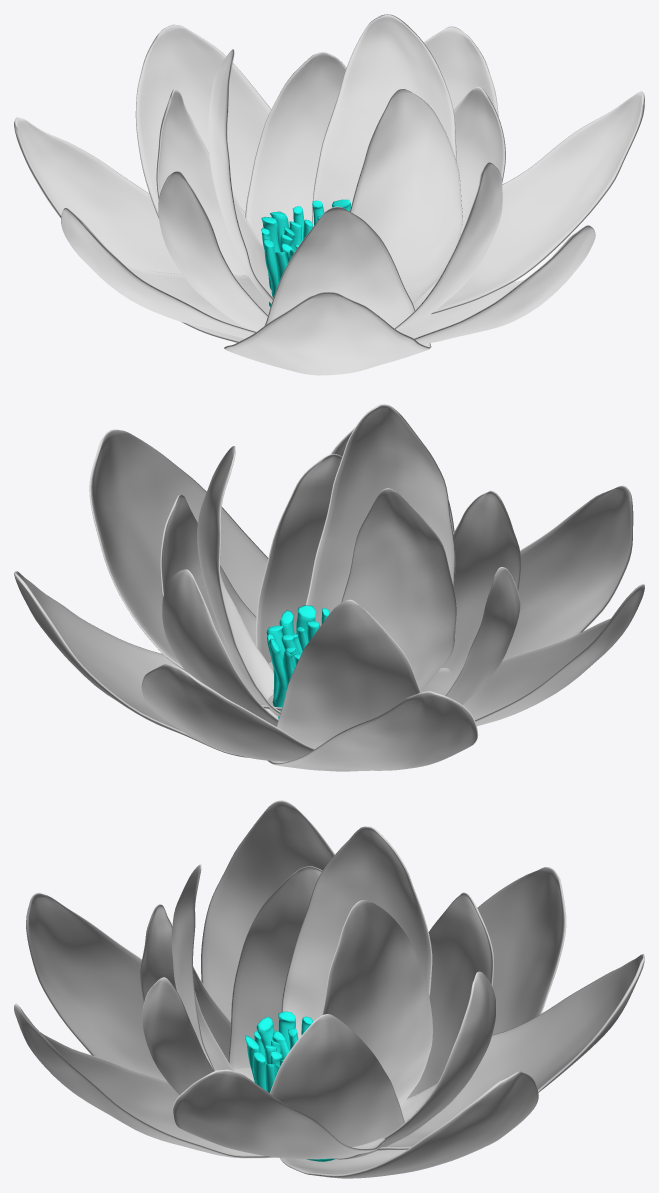
File: FLOW5.glb
3 views of the same model, one above another, from view 1: azimuth 30°, elevation 25°; view 2: azimuth 150°, elevation 25°; view 3: azimuth 270°, elevation 25° (orthographic).
Parts seen in each view (by area): view 1: lotu_petal_13, lotu_petal_02, lotu_petal_14, lotu_petal_00, lotu_petal_06, lotu_petal_11, lotu_petal_04, lotu_petal_08, lotu_petal_09, lotu_petal_05, lotu_petal_03, lotu_petal_10 (+5 smaller); view 2: lotu_petal_02, lotu_petal_15, lotu_petal_13, lotu_petal_04, lotu_petal_10, lotu_petal_06, lotu_petal_05, lotu_petal_00, lotu_petal_07, lotu_petal_01, lotu_petal_08, lotu_petal_11 (+4 smaller); view 3: lotu_petal_04, lotu_petal_14, lotu_petal_15, lotu_petal_05, lotu_petal_12, lotu_petal_00, lotu_petal_06, lotu_petal_02, lotu_petal_03, lotu_petal_09, lotu_petal_01, lotu_petal_10 (+5 smaller).
Part boxes in pixels (x1,y1,x2,y2): lotu_petal_13: (350, 89, 462, 304); lotu_petal_02: (413, 91, 644, 314); lotu_petal_14: (312, 14, 456, 227); lotu_petal_00: (135, 24, 271, 218); lotu_petal_06: (14, 117, 244, 342); lotu_petal_11: (245, 52, 346, 246); lotu_petal_04: (224, 292, 431, 375); lotu_petal_08: (264, 206, 414, 328); lotu_petal_09: (158, 171, 267, 331); lotu_petal_05: (61, 208, 270, 338); lotu_petal_03: (397, 225, 595, 344); lotu_petal_10: (156, 89, 247, 275); lotu_petal_02: (89, 429, 281, 710); lotu_petal_15: (341, 488, 456, 690); lotu_petal_13: (306, 404, 455, 626); lotu_petal_04: (477, 485, 633, 726); lotu_petal_10: (276, 599, 420, 748); lotu_petal_06: (267, 691, 478, 771); lotu_petal_05: (420, 583, 644, 726); lotu_petal_00: (141, 664, 315, 761); lotu_petal_07: (255, 453, 342, 663); lotu_petal_01: (14, 571, 248, 757); lotu_petal_08: (441, 490, 520, 679); lotu_petal_11: (162, 569, 278, 726); lotu_petal_04: (26, 892, 165, 1080); lotu_petal_14: (322, 900, 432, 1104); lotu_petal_15: (281, 826, 432, 1038); lotu_petal_05: (201, 800, 334, 1082); lotu_petal_12: (270, 1014, 404, 1158); lotu_petal_00: (376, 954, 644, 1150); lotu_petal_06: (477, 867, 566, 1034); lotu_petal_02: (172, 1069, 386, 1159); lotu_petal_03: (14, 1003, 279, 1158); lotu_petal_09: (228, 866, 321, 1069); lotu_petal_01: (280, 1071, 538, 1178); lotu_petal_10: (407, 892, 493, 1097).
Bounding box in the file's own units: 0.4384 × 0.2152 × 0.4304.
